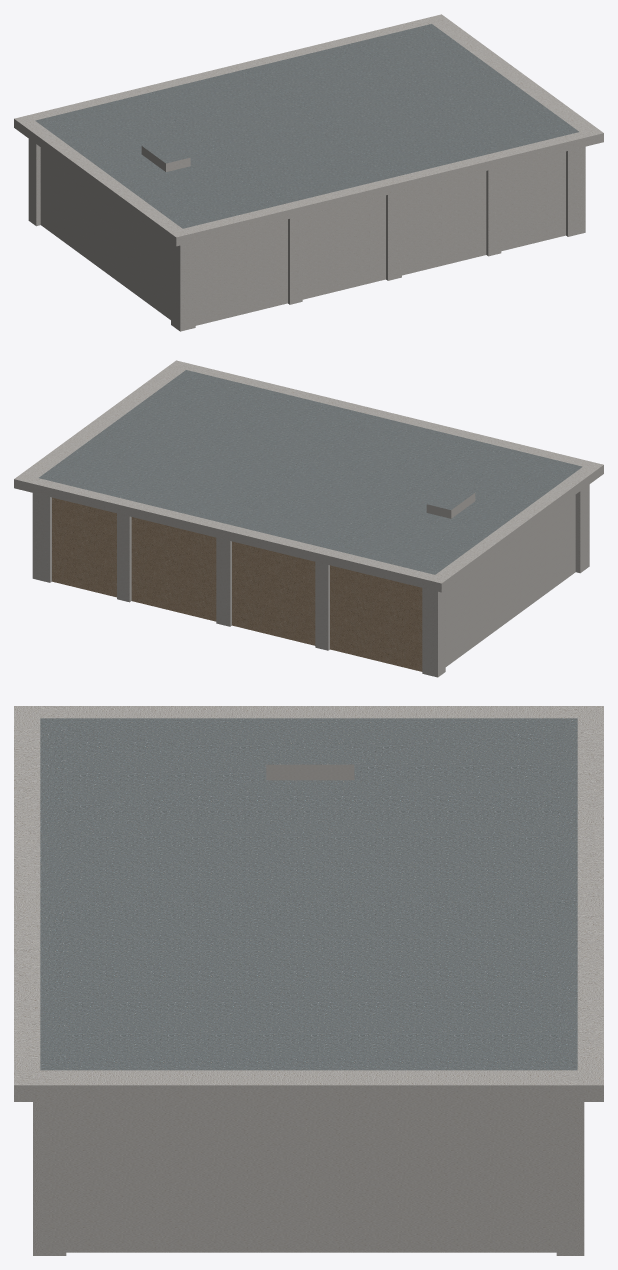
Rendered from bunka.fbx.
3 views of the same model, one above another, from view 1: azimuth 30°, elevation 25°; view 2: azimuth 150°, elevation 25°; view 3: azimuth 270°, elevation 25° (orthographic). The views are drawn at different scales.
Parts seen in each view (by area): view 1: Cube; view 2: Cube; view 3: Cube.
Boxes of the visible parts, x1=… form: Cube: x1=14, y1=14, x2=603, y2=331; Cube: x1=14, y1=360, x2=603, y2=677; Cube: x1=14, y1=706, x2=603, y2=1255.
Size of the model in its own units: 1811 by 440 by 1190.
